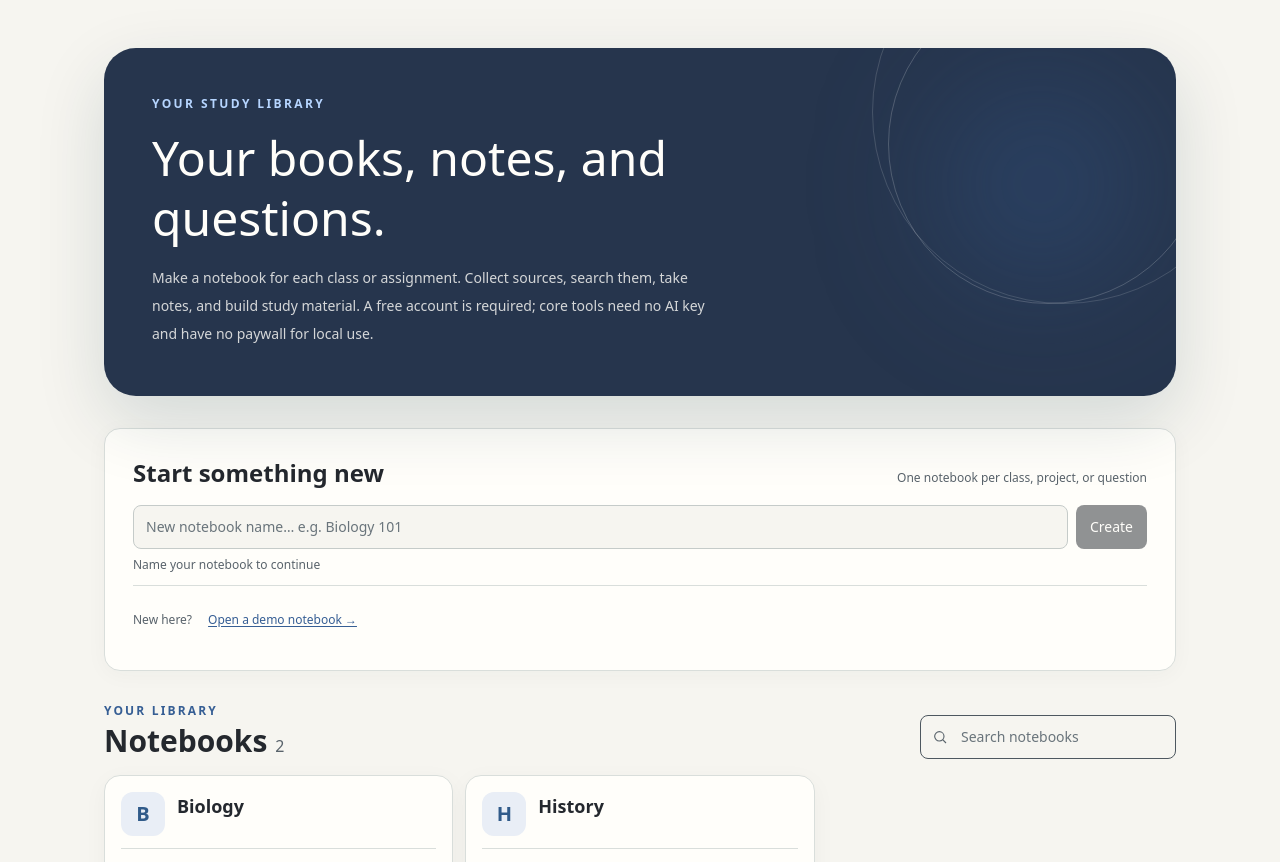
it: filtered-empty acknowledges the filter and clear works
Type "zzz-nope" into the search field labelled "Search notebooks" at (1048, 737), box x1=920 y1=715 x2=1176 y2=759
(page scrolled)
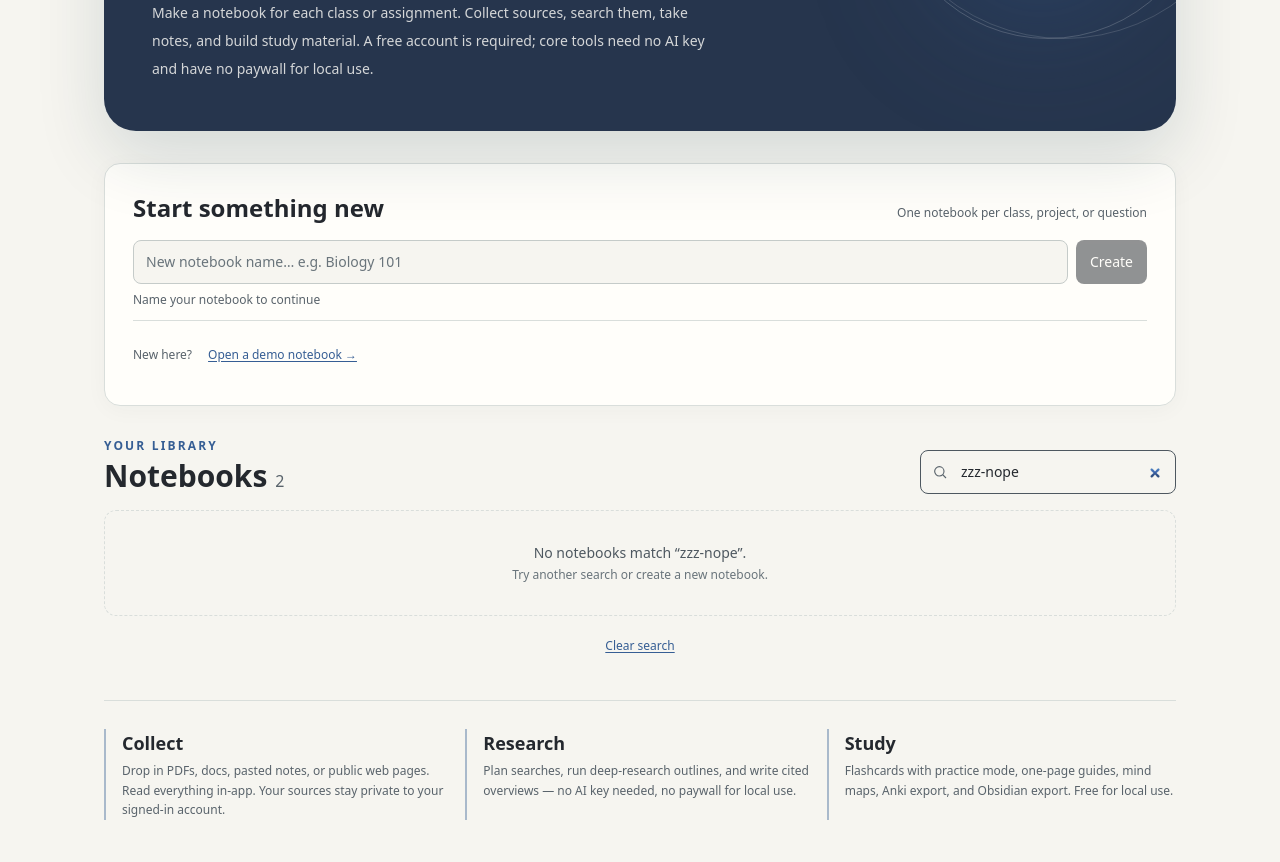
Now the text "No notebooks match “zzz-nope”." is shown, box x1=534 y1=543 x2=746 y2=562
Click the button "Clear search" at (640, 646), box x1=593 y1=624 x2=687 y2=668
(page scrolled)
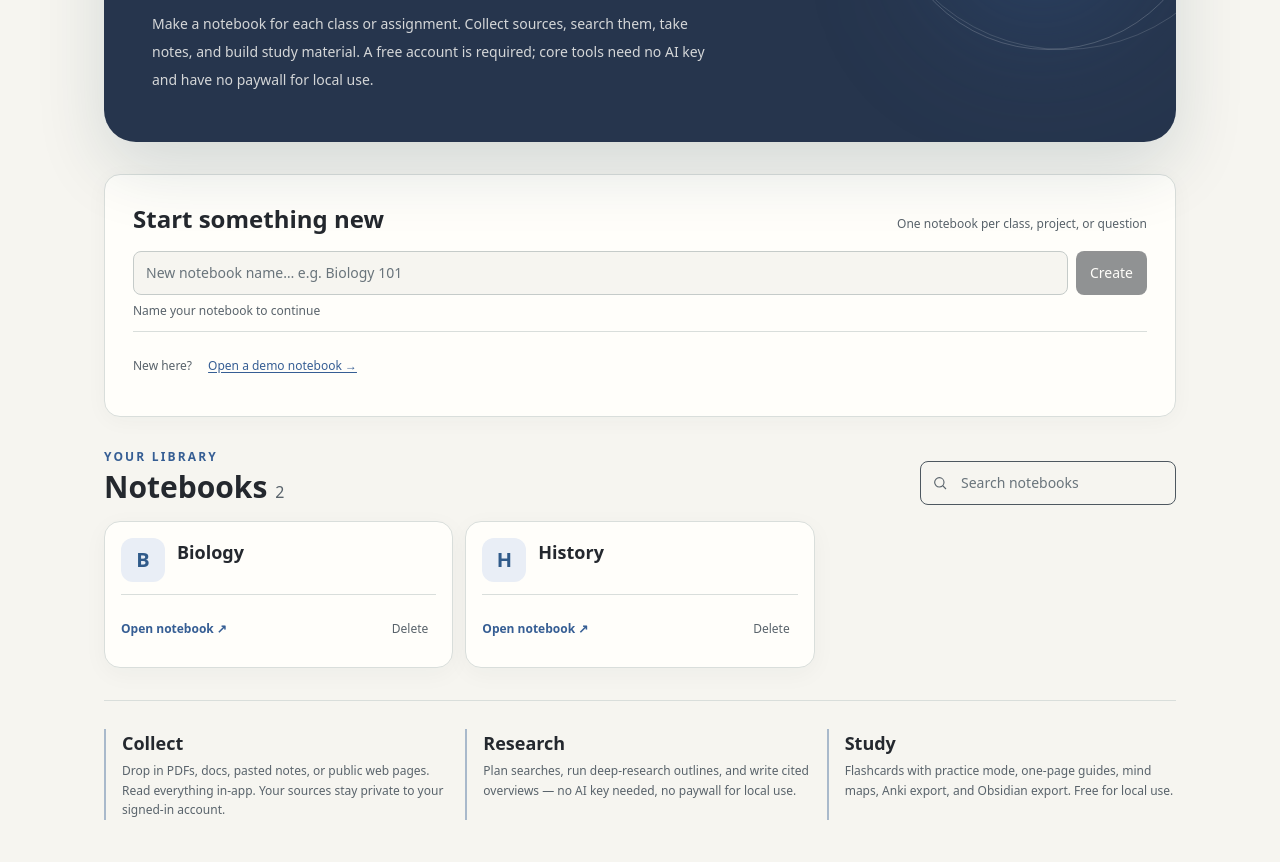
Now the button with aria-label "Open Biology" is shown, box x1=121 y1=538 x2=436 y2=582
